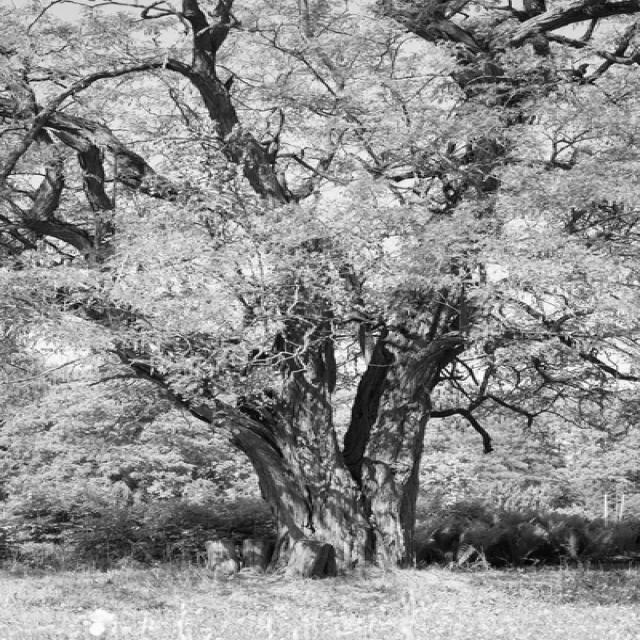Tree: (0, 0, 640, 573)
